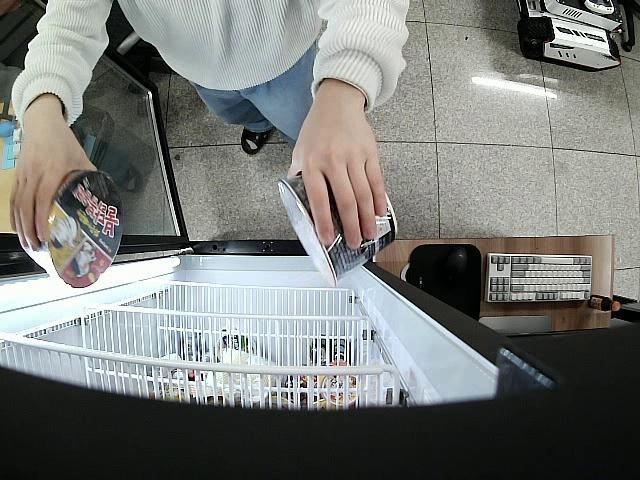07_buldak_L: (278, 174, 397, 285), (19, 168, 125, 290)
